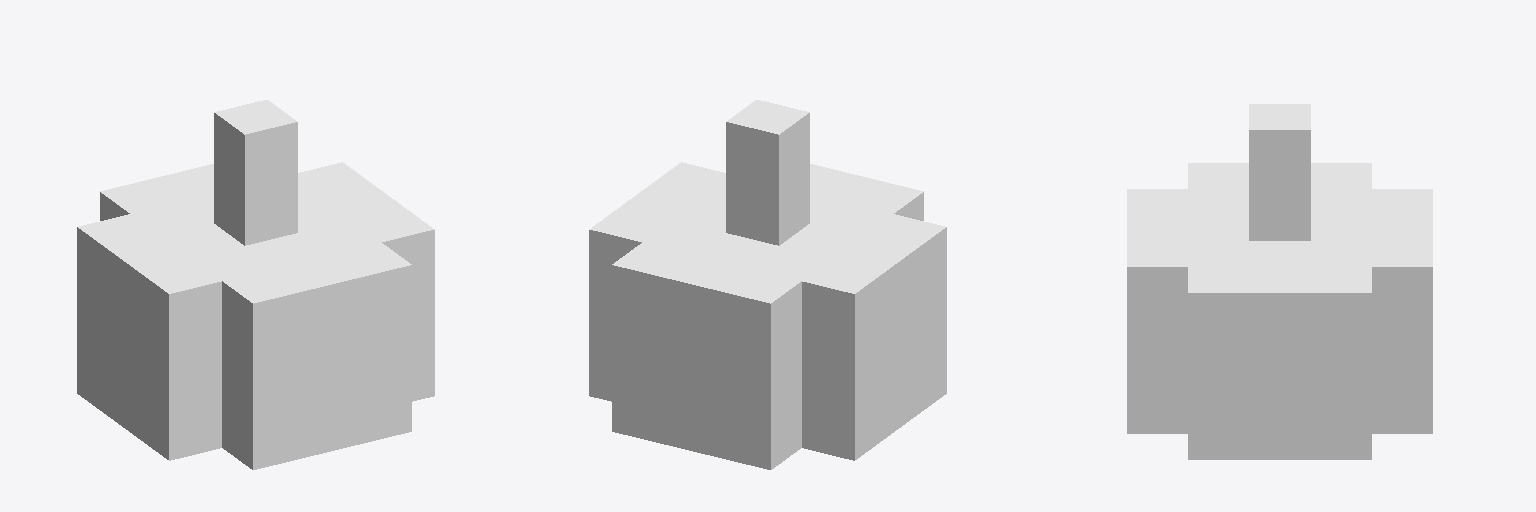
File: tavern-56-cake.obj
3 renders of one model, left to right at view 1: azimuth 30°, elevation 25°; view 2: azimuth 150°, elevation 25°; view 3: azimuth 270°, elevation 25°, orthographic.
Parts seen in each view (by area): view 1: cake; view 2: cake; view 3: cake.
Boxes of the visible parts, box(x1,y1,x2,y2) form: cake: box(77, 100, 434, 469); cake: box(589, 100, 946, 469); cake: box(1127, 104, 1432, 459).
Bounding box in the file's own units: 0.5 × 0.5 × 0.5.